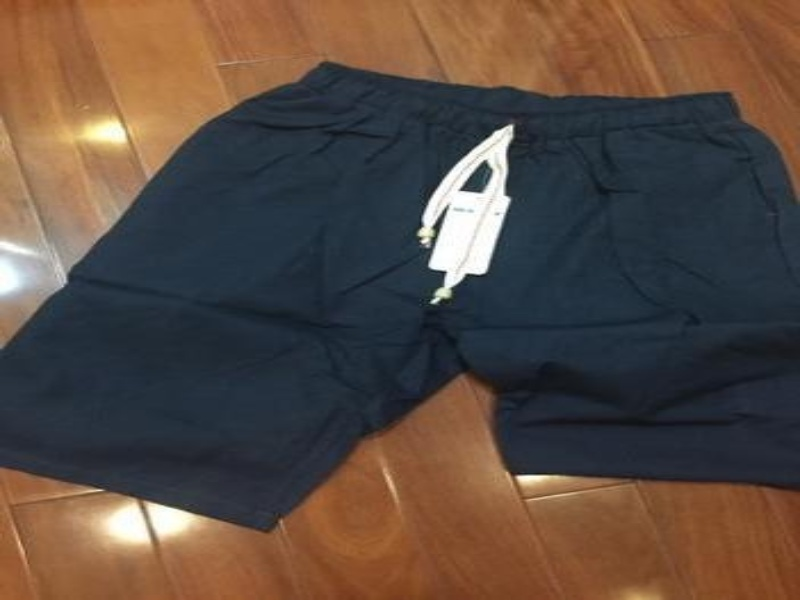shorts: (0, 62, 798, 533)
